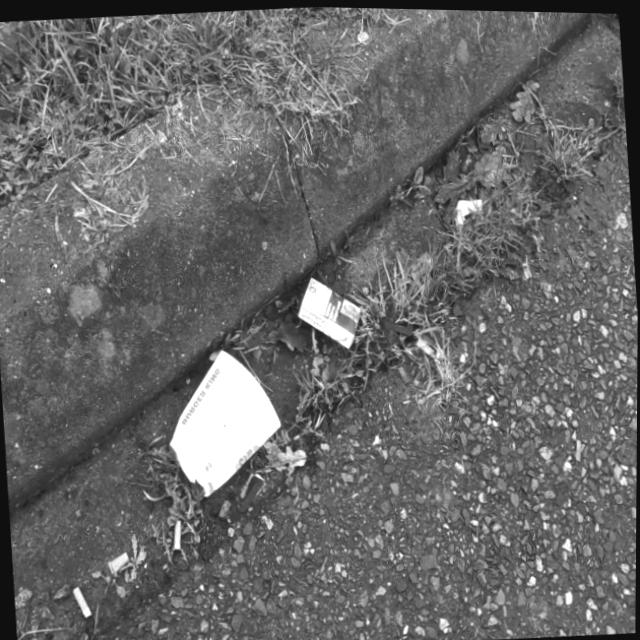Cup: (159, 338, 289, 505)
Paper: (294, 272, 364, 351)
